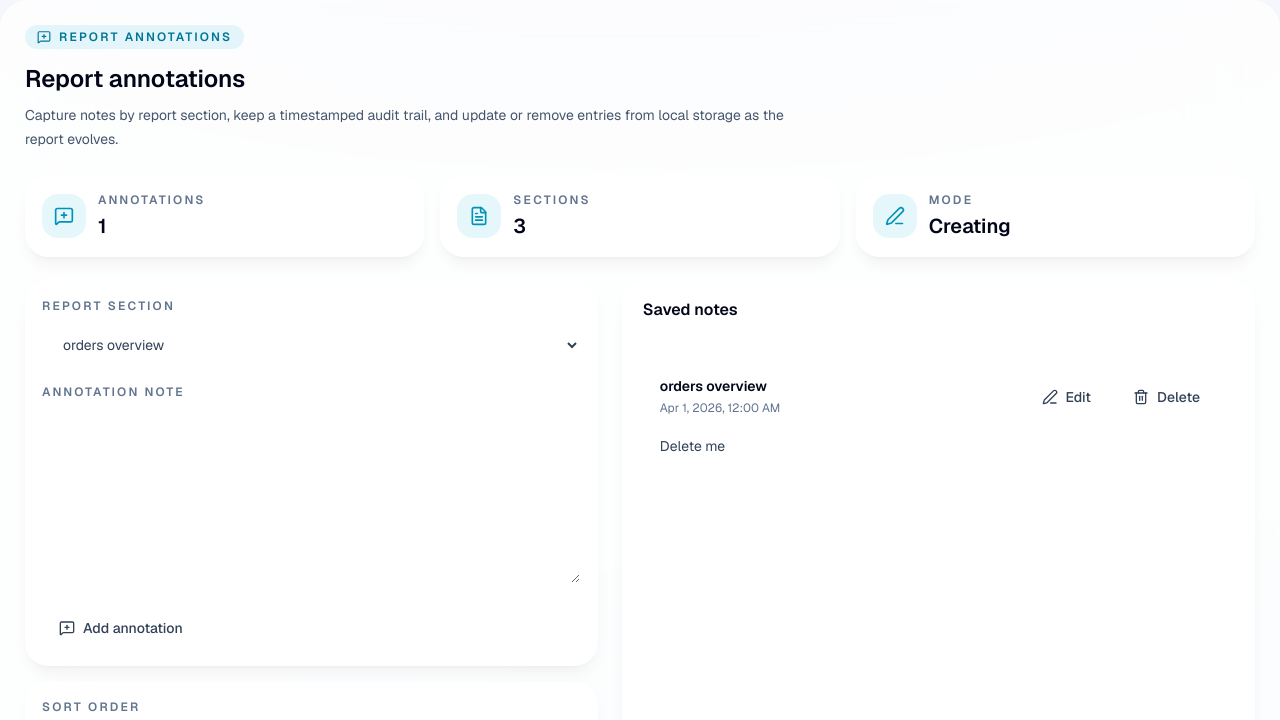
Test: ReportAnnotations › deletes an existing annotation
This screenshot has width=1280, height=720.
Click the button "Delete".
click(1166, 397)  # box x1=1116 y1=376 x2=1217 y2=418
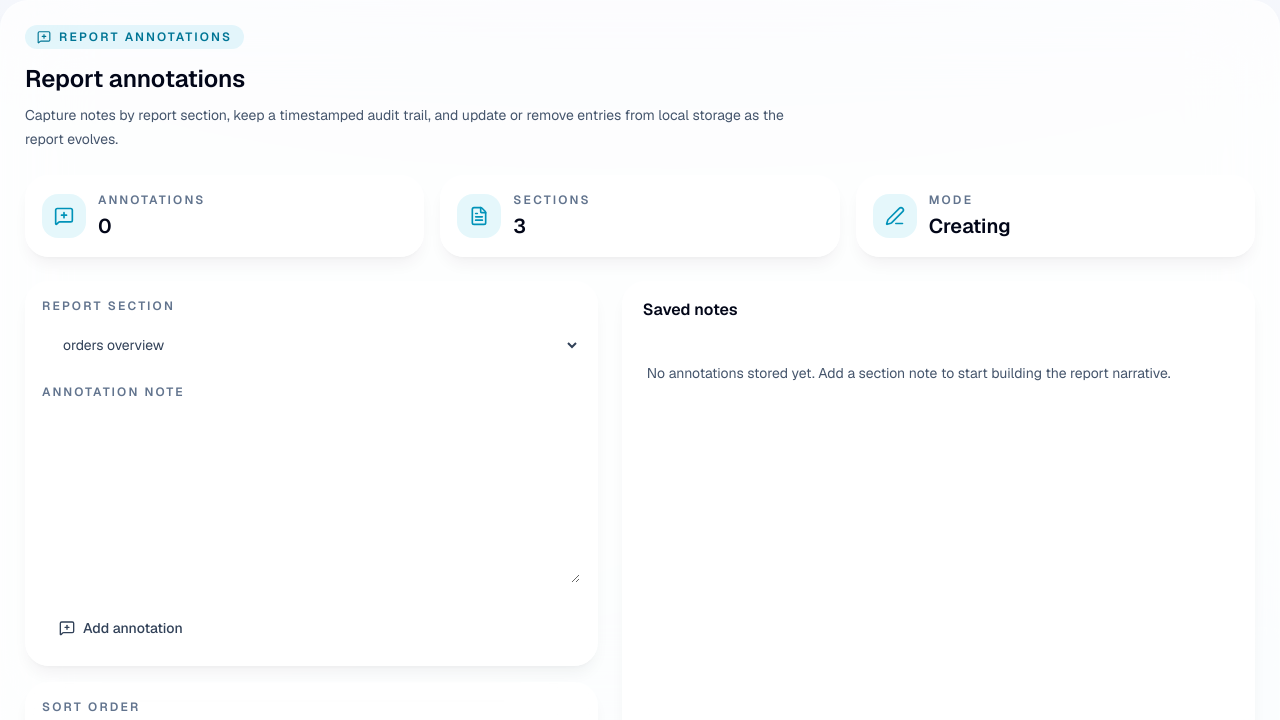
expect the text "Delete me" is gone: met
